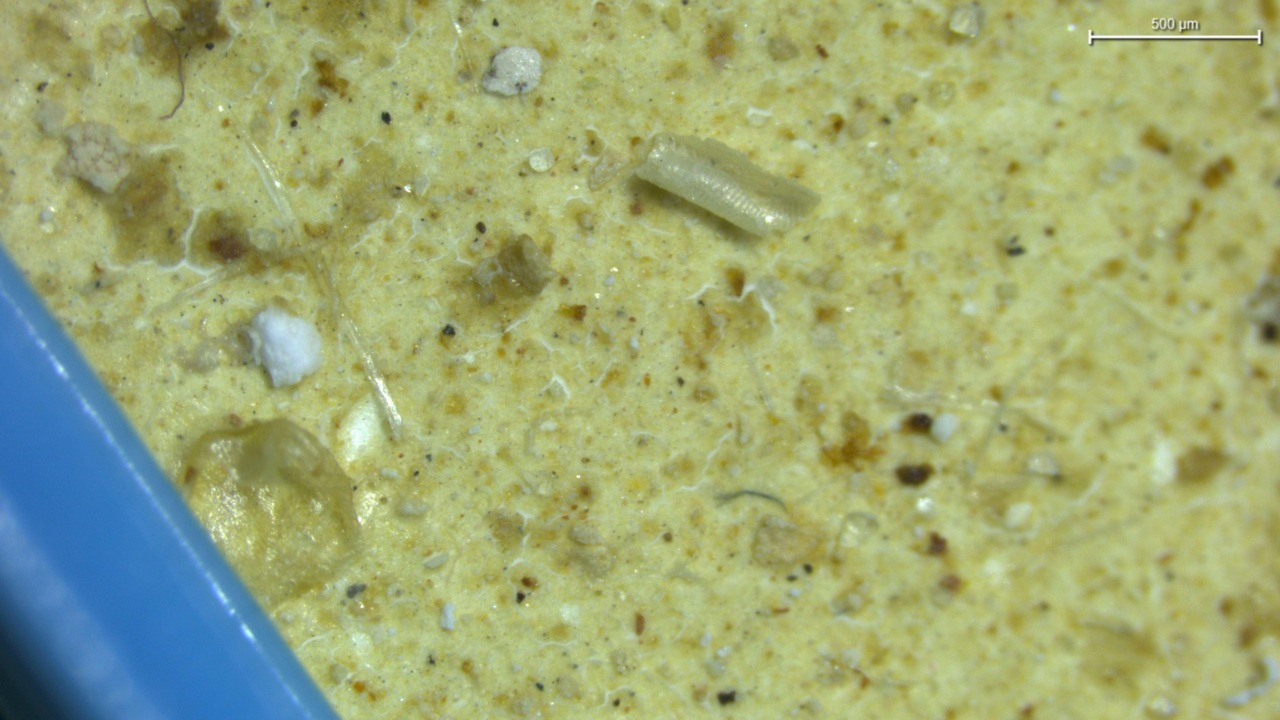microplastic_fragment: (246, 307, 322, 387), (62, 122, 134, 193), (482, 46, 541, 95)
